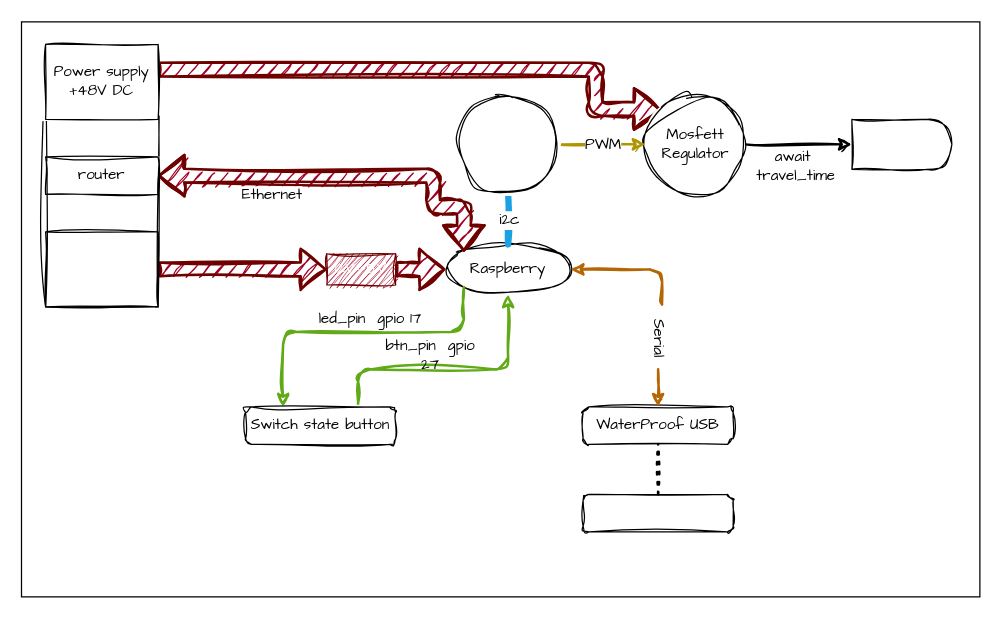
This 1003x619 diagram has some shape labels left out. Each missing label, with the centre of its shape:
cf. MIDI hardware: point 657,512
PCA9685 shield: point 507,143
Power supply +12V DC: point 101,269
Solenoide: point 901,143
